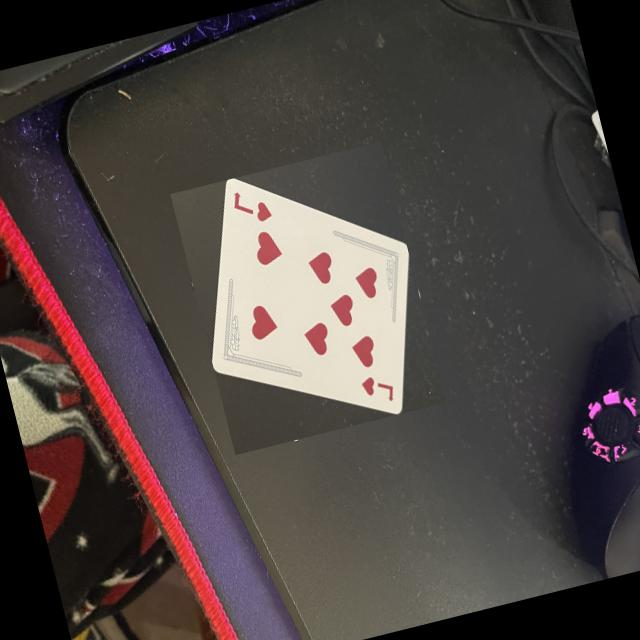7 of hearts: (212, 178, 407, 414)
